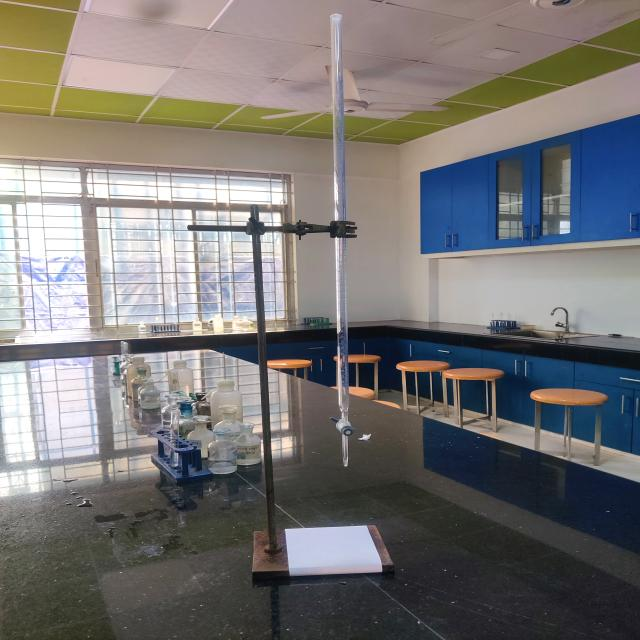Burette_Stands: (162, 196, 423, 598)
